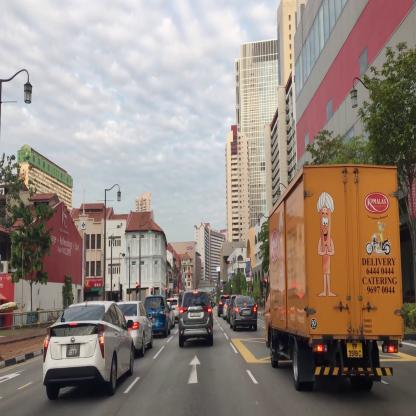red_traffic_light: (136, 283, 138, 293), (226, 260, 231, 264), (264, 278, 266, 287), (165, 287, 167, 294)
